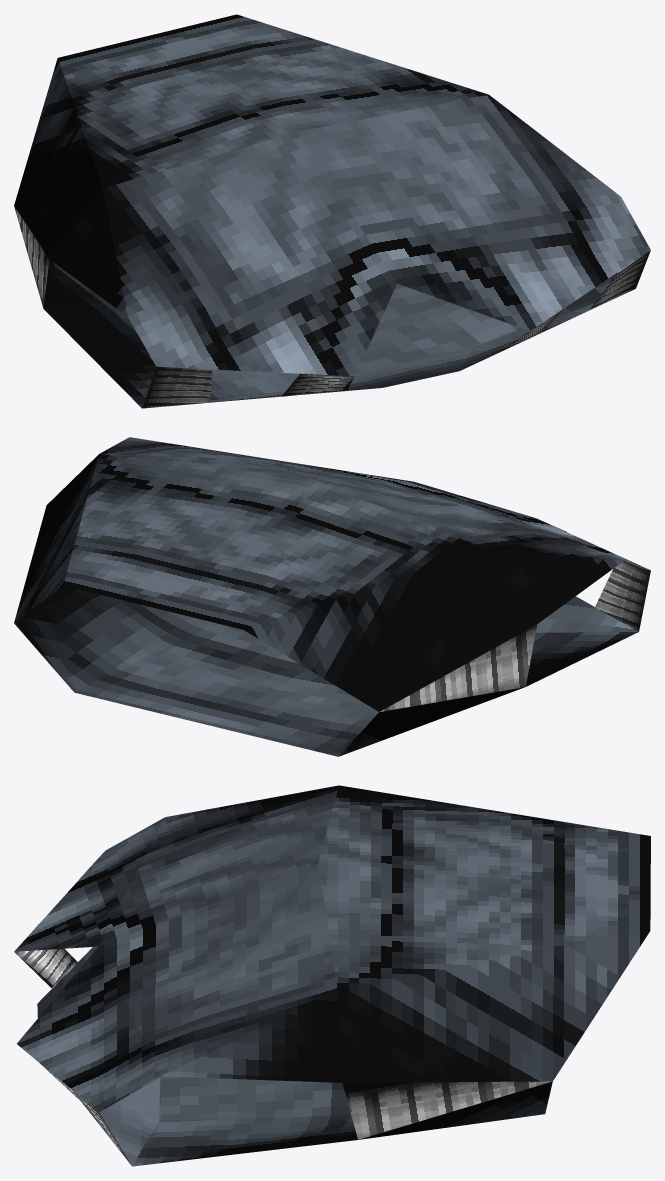
Rendered from primary_070.glb.
3 renders of one model, top to bottom at view 1: azimuth 30°, elevation 25°; view 2: azimuth 150°, elevation 25°; view 3: azimuth 270°, elevation 25°, orthographic. The views are drawn at different scales.
Visible parts, largest first — view 1: Object; view 2: Object; view 3: Object.
Part boxes in pixels (<box>): Object: <box>14,14,650,408</box>; Object: <box>14,437,650,756</box>; Object: <box>14,785,650,1166</box>.
Bounding box in the file's own units: 0.6684 × 0.2409 × 0.6887.
7 materials, 7 textured.
